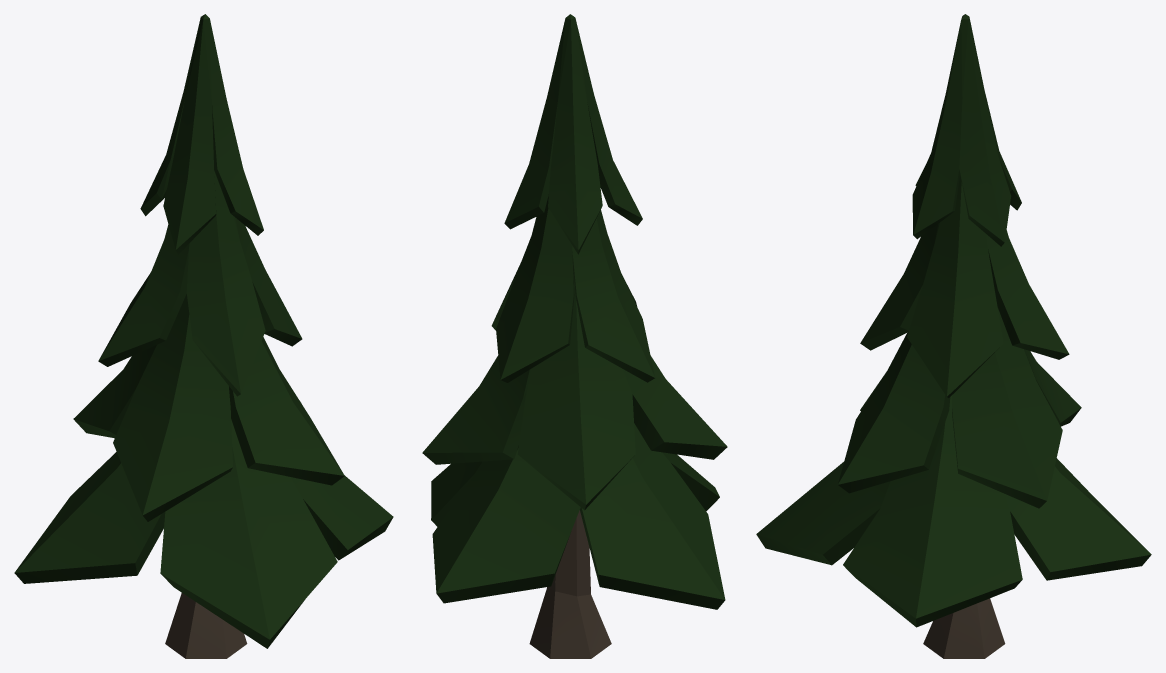
Rendered from SpruceB.fbx.
3 renders of one model, left to right at view 1: azimuth 30°, elevation 25°; view 2: azimuth 150°, elevation 25°; view 3: azimuth 270°, elevation 25°, orthographic.
Parts seen in each view (by area): view 1: SpruceB; view 2: SpruceB; view 3: SpruceB.
Part boxes in pixels (bbox=[...]): SpruceB: bbox=[14, 14, 393, 658]; SpruceB: bbox=[422, 14, 727, 658]; SpruceB: bbox=[756, 14, 1151, 658].
Size of the model in its own units: 594 by 1062 by 605.
